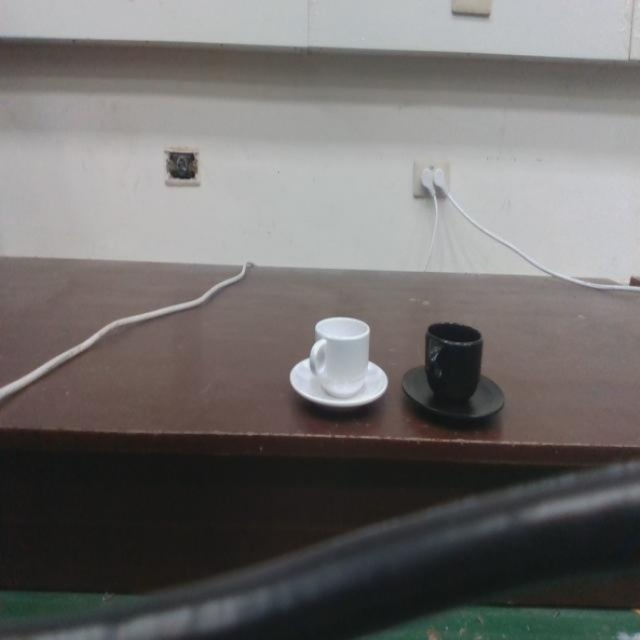black: (400, 319, 508, 426)
white: (288, 314, 389, 418)
